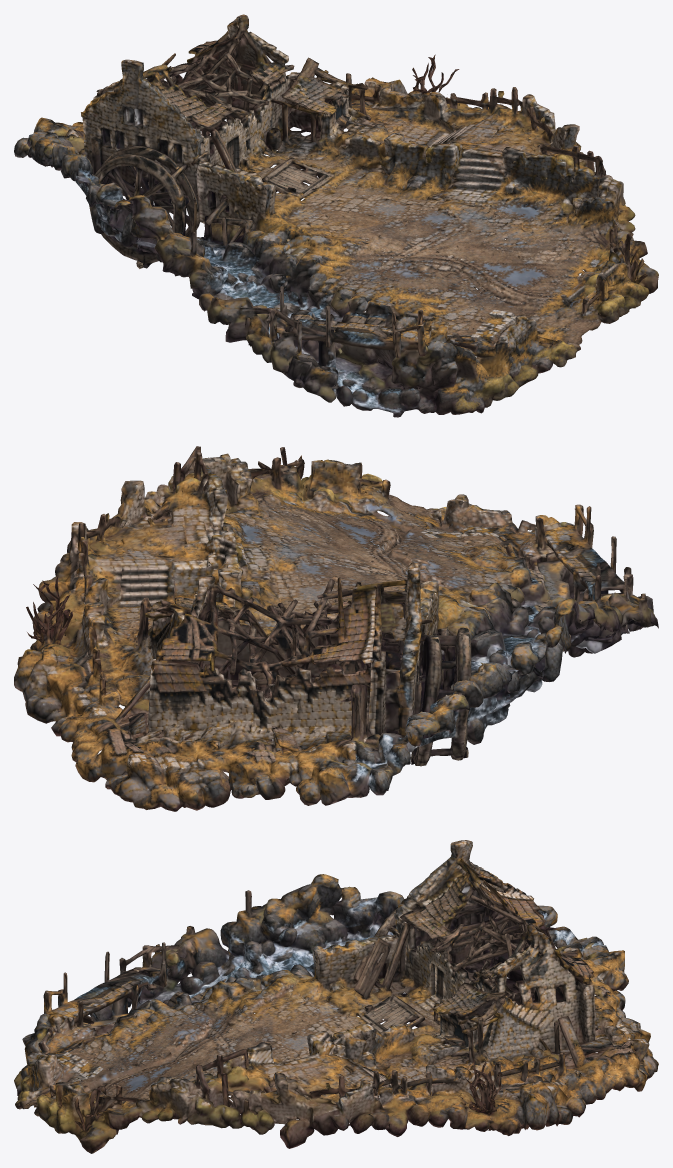
Rendered from battlefield.glb.
3 views of the same model, one above another, from view 1: azimuth 30°, elevation 25°; view 2: azimuth 150°, elevation 25°; view 3: azimuth 270°, elevation 25° (orthographic). The views are drawn at different scales.
Parts seen in each view (by area): view 1: ENV_OldMillBattlefield; view 2: ENV_OldMillBattlefield; view 3: ENV_OldMillBattlefield.
Boxes of the visible parts, <box> form: ENV_OldMillBattlefield: <box>14,14,658,417</box>; ENV_OldMillBattlefield: <box>14,446,658,811</box>; ENV_OldMillBattlefield: <box>14,840,658,1153</box>.
Size of the model in its own units: 25 by 11.41 by 32.97.
Materials: 3 (3 with a texture image).
